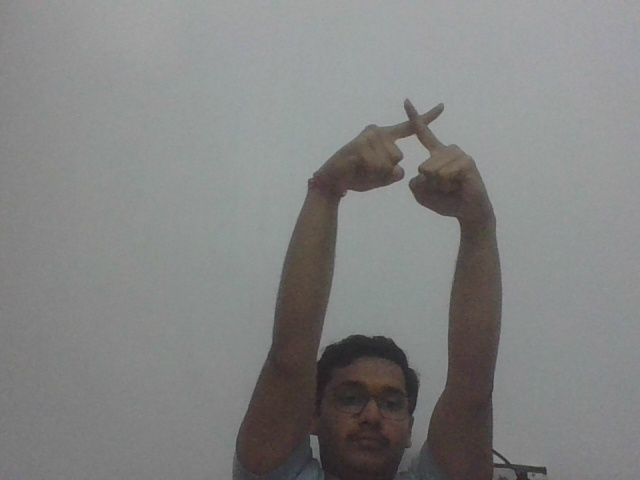X: (334, 101, 490, 220)
